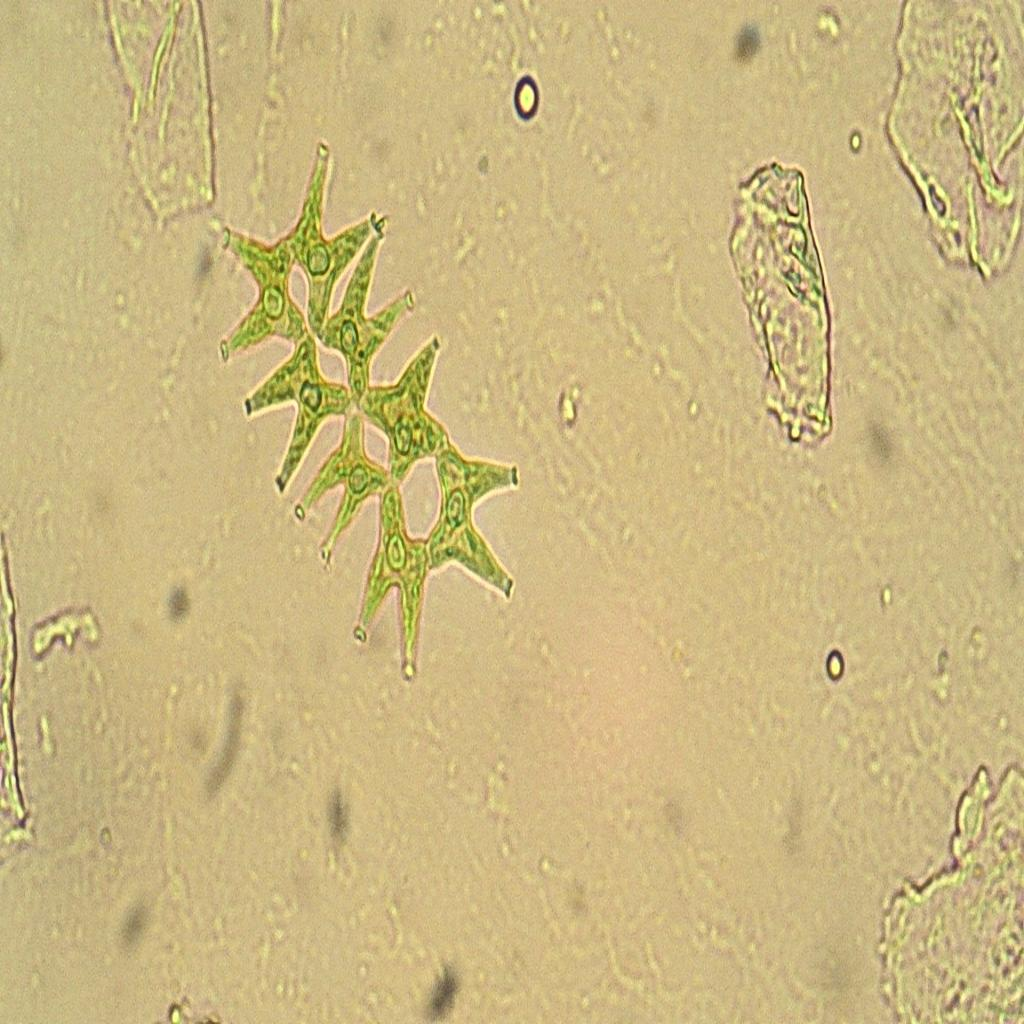Pediastrum_1TH: (188, 137, 532, 708)
